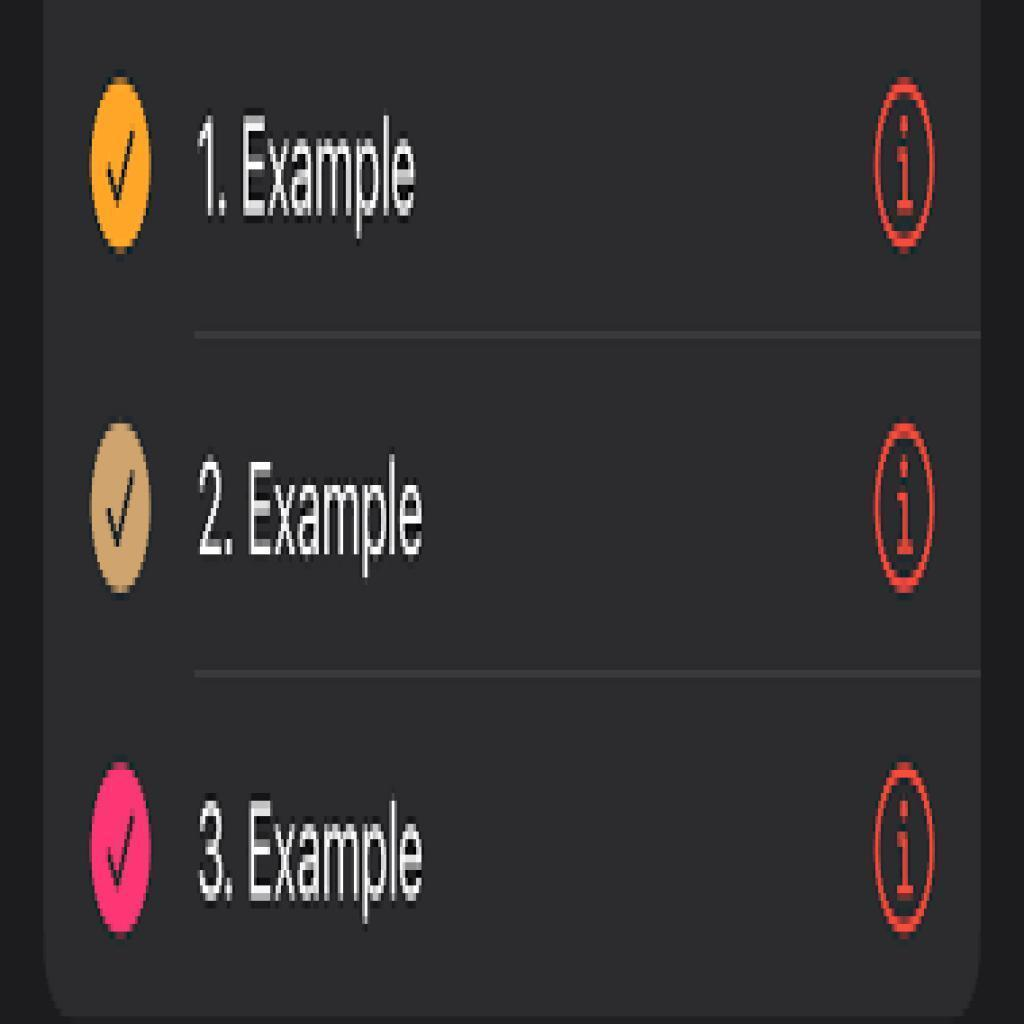icon: (857, 756, 947, 943), (870, 420, 950, 602), (869, 80, 938, 249)
radio: (84, 759, 155, 949), (82, 422, 155, 594), (92, 77, 148, 254)
